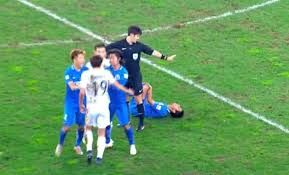fall: (110, 80, 185, 127)
